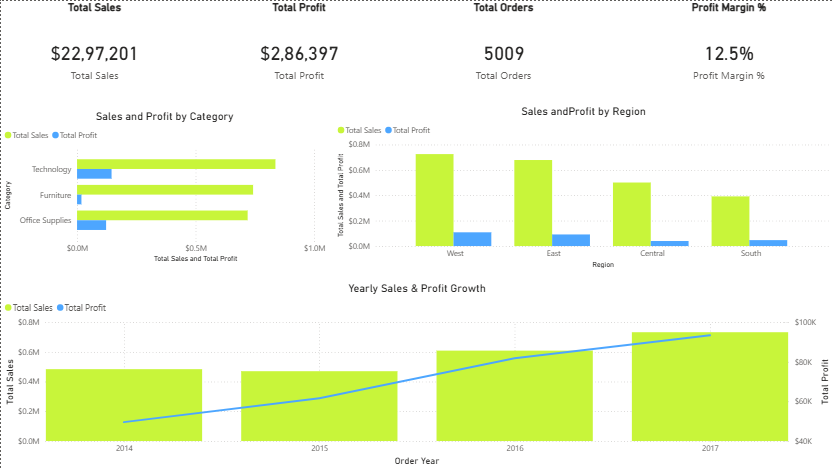

The dashboard page shown, as its layout file describes it:
{"tool":"powerbi","page":{"name":"Overview","canvas":[1280,720],"ordinal":0},"visuals":[{"type":"card","title":"Total Orders","fields":{"Values":["superstore_cleaned.Total Orders"]},"box":[629.3,0,288,160],"z":0},{"type":"card","title":"Total Profit","fields":{"Values":["superstore_cleaned.Total Profit"]},"box":[330.7,0,256,160],"z":1000},{"type":"card","title":"Total Sales","fields":{"Values":["superstore_cleaned.Total Sales"]},"box":[0,0,288,160],"z":2000},{"type":"card","title":"Profit Margin %","fields":{"Values":["superstore_cleaned.Profit Margin %"]},"box":[960,0,320,160],"z":3000},{"type":"clusteredBarChart","title":"Sales and Profit by Category","fields":{"Category":["superstore_cleaned.Category"],"Y":["superstore_cleaned.Total Sales","superstore_cleaned.Total Profit"]},"box":[0,168,504,240],"z":4000},{"type":"clusteredColumnChart","title":"Sales andProfit by Region","fields":{"Category":["superstore_cleaned.Region"],"Y":["superstore_cleaned.Total Sales","superstore_cleaned.Total Profit"]},"box":[512,160,768,256],"z":5000},{"type":"lineClusteredColumnComboChart","title":"Yearly Sales & Profit Growth","fields":{"Category":["superstore_cleaned.Order Year"],"Y2":["superstore_cleaned.Total Profit"],"Y":["superstore_cleaned.Total Sales"]},"box":[0,432,1280,288],"z":6000}]}

Visuals, with their boxes in screenshot pixels (x1, y1, x2, y2), scaled from the page's 1280x720 canvas onto the 833x469 screenshot:
"Total Orders" card: bbox=(410, 0, 597, 104)
"Total Profit" card: bbox=(215, 0, 382, 104)
"Total Sales" card: bbox=(0, 0, 187, 104)
"Profit Margin %" card: bbox=(625, 0, 832, 104)
"Sales and Profit by Category" clusteredBarChart: bbox=(0, 109, 328, 266)
"Sales andProfit by Region" clusteredColumnChart: bbox=(333, 104, 832, 271)
"Yearly Sales & Profit Growth" lineClusteredColumnComboChart: bbox=(0, 281, 832, 468)
